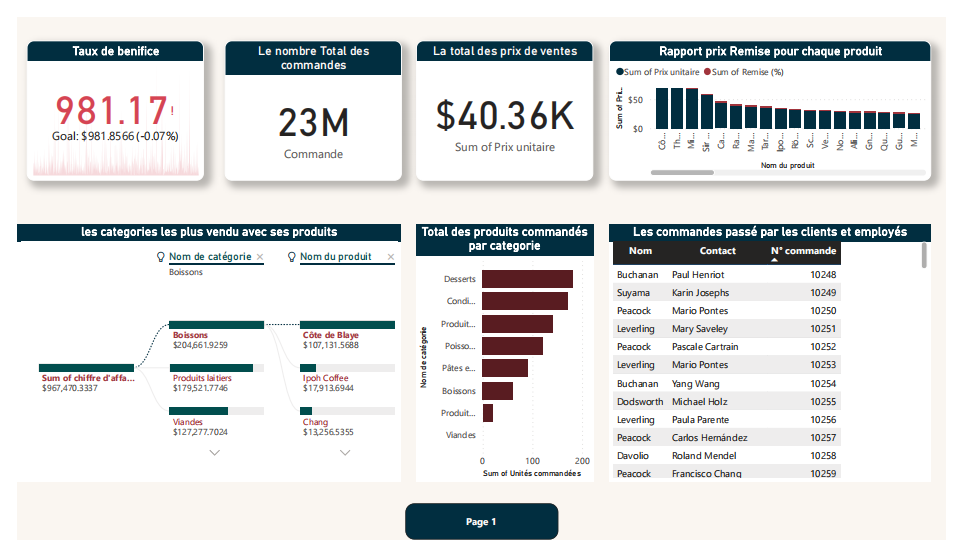

This screenshot's page, from the dashboard's own definition file:
{"tool":"powerbi","page":{"name":"Page  2","canvas":[1280,720],"ordinal":1},"visuals":[{"type":"card","title":"Taux de benefice","fields":{"Values":["Détails commandes.Prix total"]},"box":[10.7,18.7,241.3,204],"z":0},{"type":"columnChart","title":"Rapport Prix remise pour chaque produit","fields":{"Category":["Produits.Nom du produit"],"Y":["Détails commandes.Prix unitaire"]},"box":[793.7,17.9,468.4,205.6],"z":1000},{"type":"card","title":"Nombre Total des commandes","fields":{"Values":["Détails commandes.N° commande"]},"box":[262.8,17.9,262.8,205.6],"z":2000},{"type":"card","title":"Nombre Total des commandes","fields":{"Values":["Détails commandes.Prix unitaire"]},"box":[545.3,19.7,234.2,203.8],"z":3000},{"type":"barChart","title":"Total des produits commandés par categorie","fields":{"Category":["Catégories.Nom de catégorie"],"Y":["Produits.Unités commandées"]},"box":[557.9,252.6,296.8,391],"z":4000},{"type":"tableEx","title":"Les commandes passées par les clients et les employés","fields":{"Values":["Employés.Nom","Clients.Contact","Détails commandes.N° commande"]},"box":[870.5,252.6,391,391],"z":5000},{"type":"decompositionTreeVisual","title":"Les categirues les plus vendu avec ses produits","fields":{"ExplainBy":["Catégories.Nom de catégorie","Produits.Nom du produit"],"Analyze":["Détails commandes.Prix total"]},"box":[11.4,252.6,533.7,391],"z":6000},{"type":"pageNavigator","box":[551.9,656.5,218.8,50.9],"z":7001}]}

Visuals, with their boxes in screenshot pixels (x1, y1, x2, y2), scaled from the page's 1280x720 canvas onto the 963x555 screenshot:
"Taux de benefice" card: detection(8, 14, 190, 172)
"Rapport Prix remise pour chaque produit" columnChart: detection(597, 14, 950, 172)
"Nombre Total des commandes" card: detection(198, 14, 395, 172)
"Nombre Total des commandes" card: detection(410, 15, 586, 172)
"Total des produits commandés par categorie" barChart: detection(420, 195, 643, 496)
"Les commandes passées par les clients et les employés" tableEx: detection(655, 195, 949, 496)
"Les categirues les plus vendu avec ses produits" decompositionTreeVisual: detection(9, 195, 410, 496)
pageNavigator: detection(415, 506, 580, 545)
